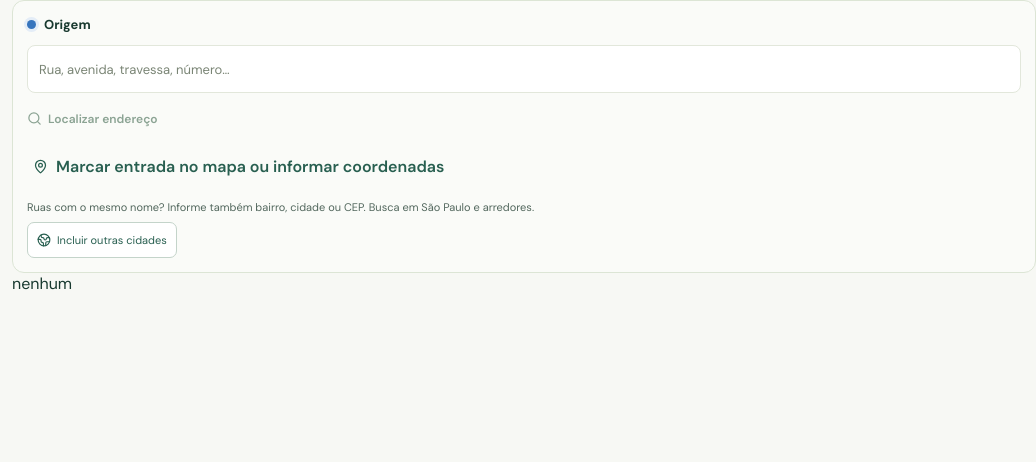
Scenario: exige confirmação do município mesmo quando rua e número foram encontrados
Type "Rua dos Campos, 42" into the dropdown.
click(524, 68); type("Rua dos Campos, 42")  # box [28, 46, 1020, 92]
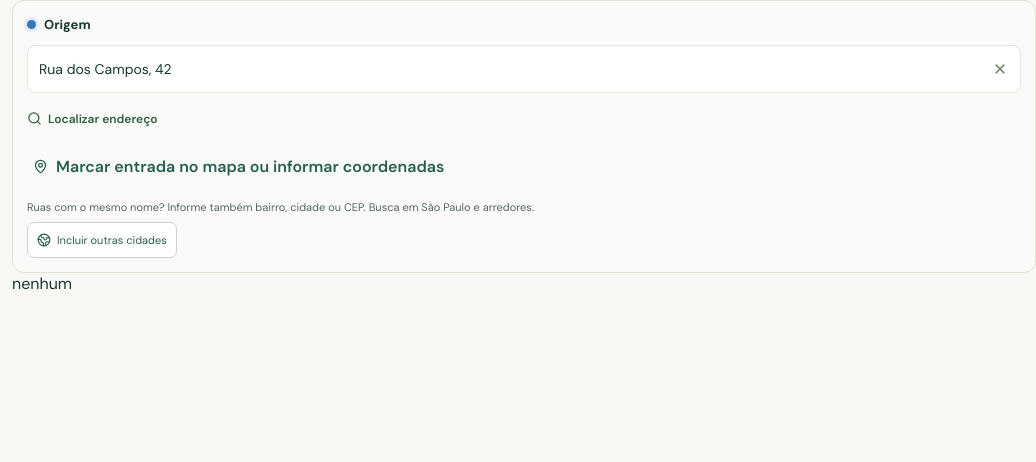
Click the button "Incluir outras cidades".
click(102, 240)  # box [27, 222, 177, 258]
Wait 600 ms
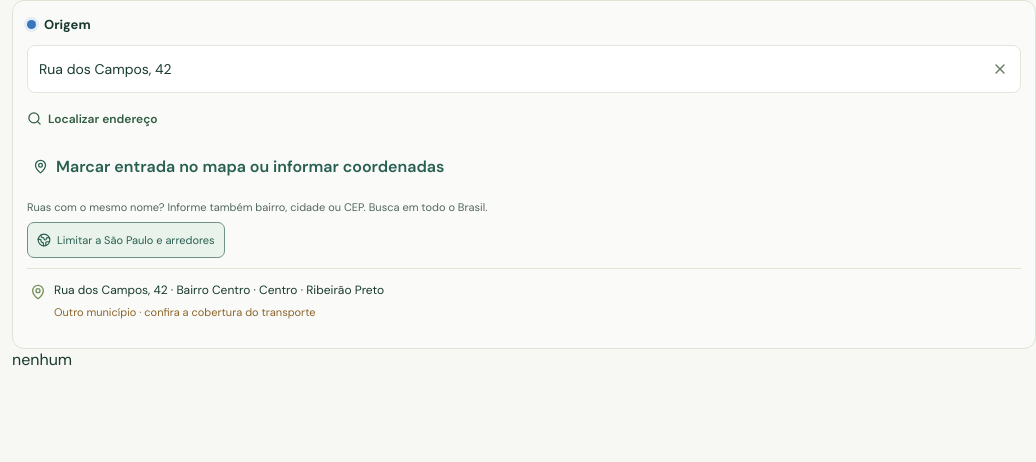
Click the option "Ribeirão Preto".
click(219, 290)  # box [27, 269, 1021, 334]
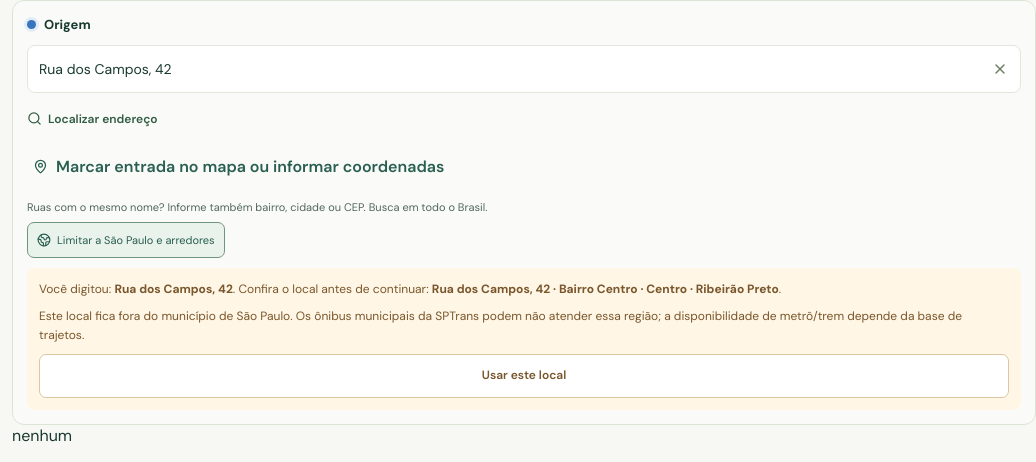
Check: the text named "Ponto escolhido" reads "nenhum", box [12, 425, 72, 446]
Check: the text "fora do município de São Paulo" is shown, box [39, 308, 962, 343]
Click the button "Usar este local".
click(524, 376)  # box [39, 354, 1009, 398]
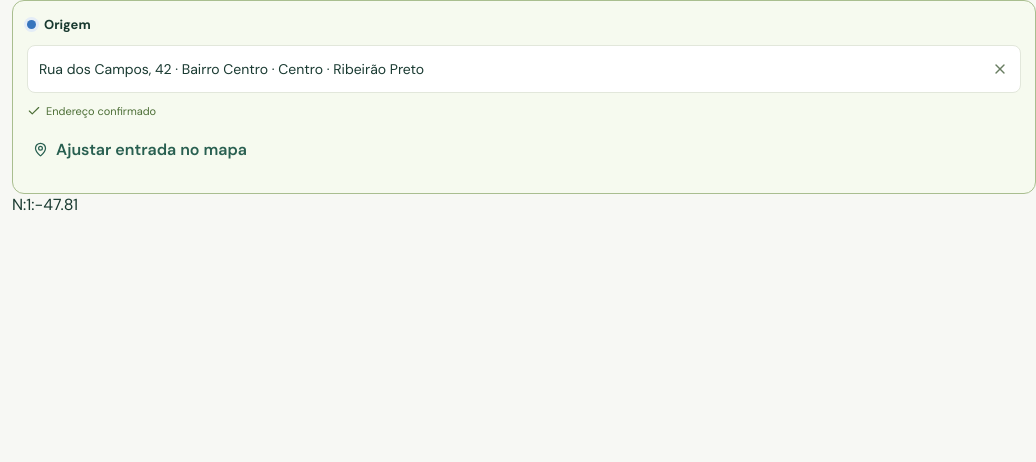
Check: the text named "Ponto escolhido" shows "N:1", box [12, 194, 78, 215]
